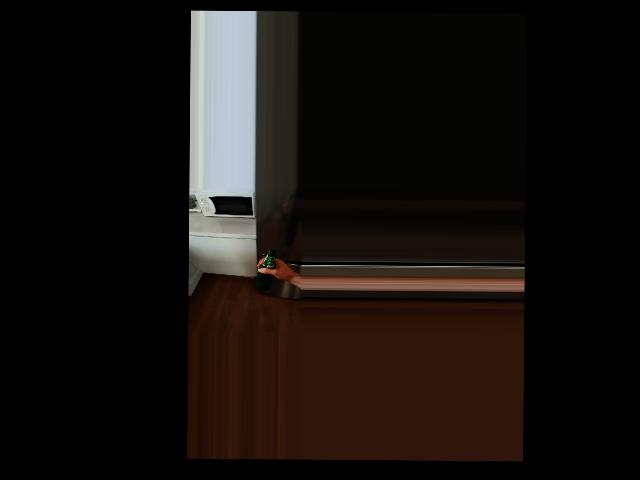beer: (255, 249, 277, 291)
